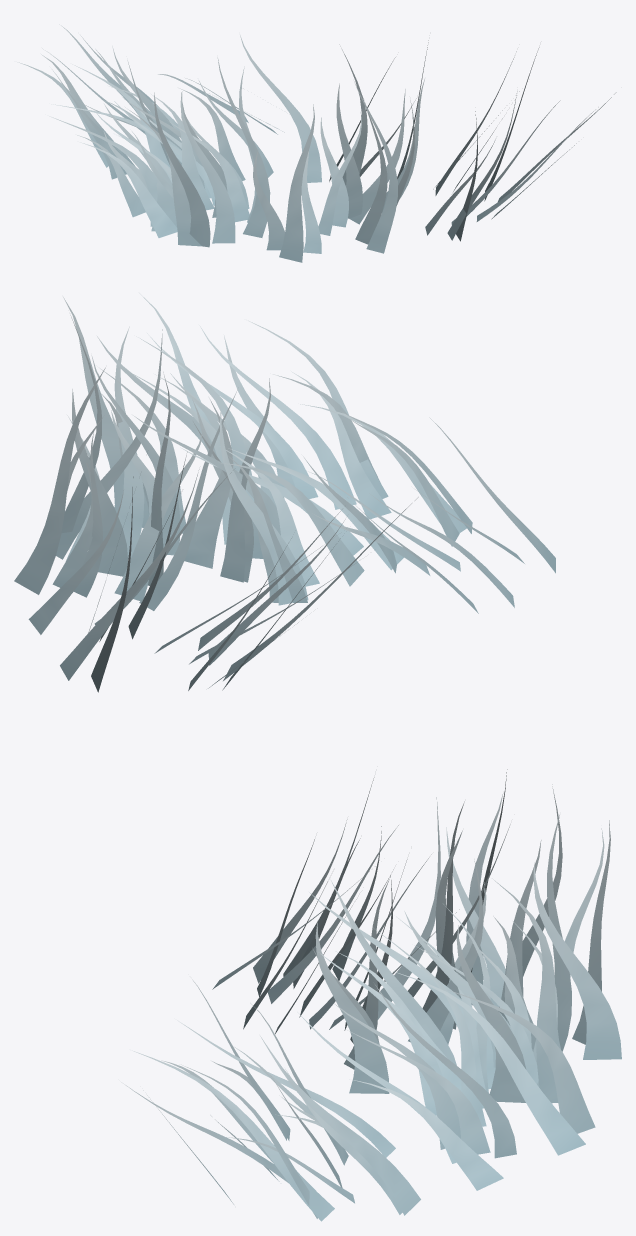
File: mesh-plant-019-ember-tuft_LOD0.glb
3 renders of one model, top to bottom at view 1: azimuth 30°, elevation 25°; view 2: azimuth 150°, elevation 25°; view 3: azimuth 270°, elevation 25°, orthographic. The views are drawn at different scales.
Visible parts, largest first — view 1: geometry_0; view 2: geometry_0; view 3: geometry_0.
Part boxes in pixels (x1,y1,x2,y2): geometry_0: (17,24,616,262); geometry_0: (14,293,555,692); geometry_0: (121,769,621,1221).
Bounding box in the file's own units: 1.5 × 0.3903 × 1.14.
